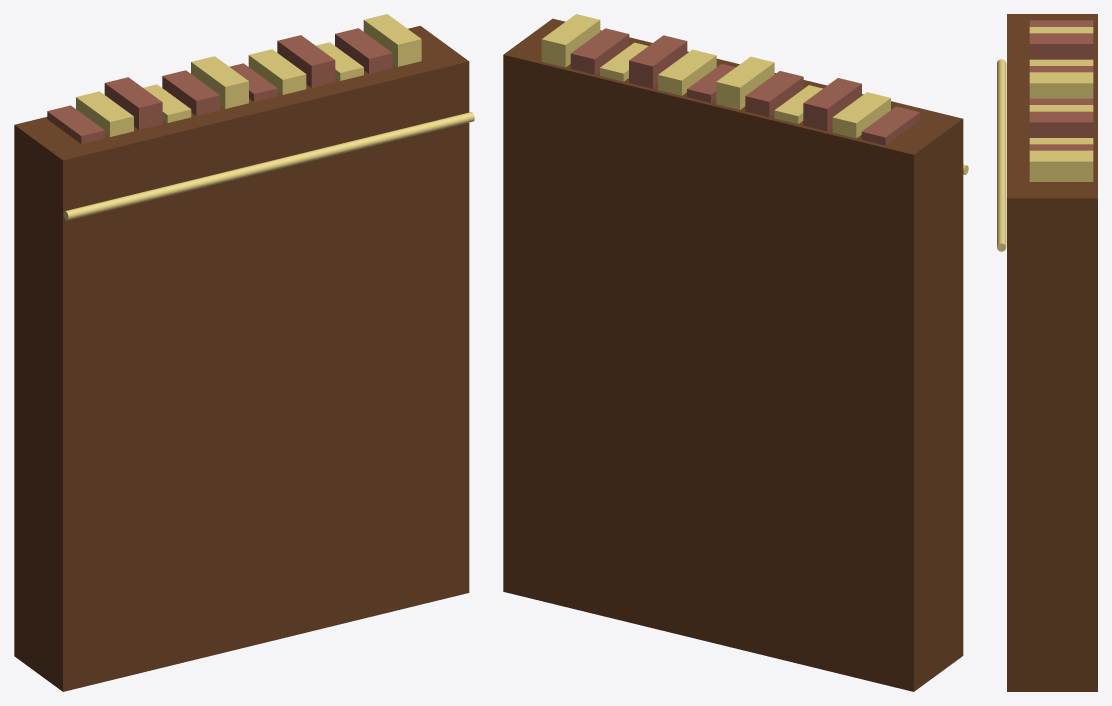
The model's file is audiobook_bookshelf.glb.
3 renders of one model, left to right at view 1: azimuth 30°, elevation 25°; view 2: azimuth 150°, elevation 25°; view 3: azimuth 270°, elevation 25°, orthographic. The views are drawn at different scales.
Parts seen in each view (by area): view 1: Audiobook_Bookshelf; view 2: Audiobook_Bookshelf; view 3: Audiobook_Bookshelf.
Part boxes in pixels (x1,y1,x2,y2): Audiobook_Bookshelf: [14, 14, 474, 691]; Audiobook_Bookshelf: [503, 14, 968, 691]; Audiobook_Bookshelf: [997, 14, 1097, 691].
Bounding box in the file's own units: 2.4 × 3.12 × 0.555.
